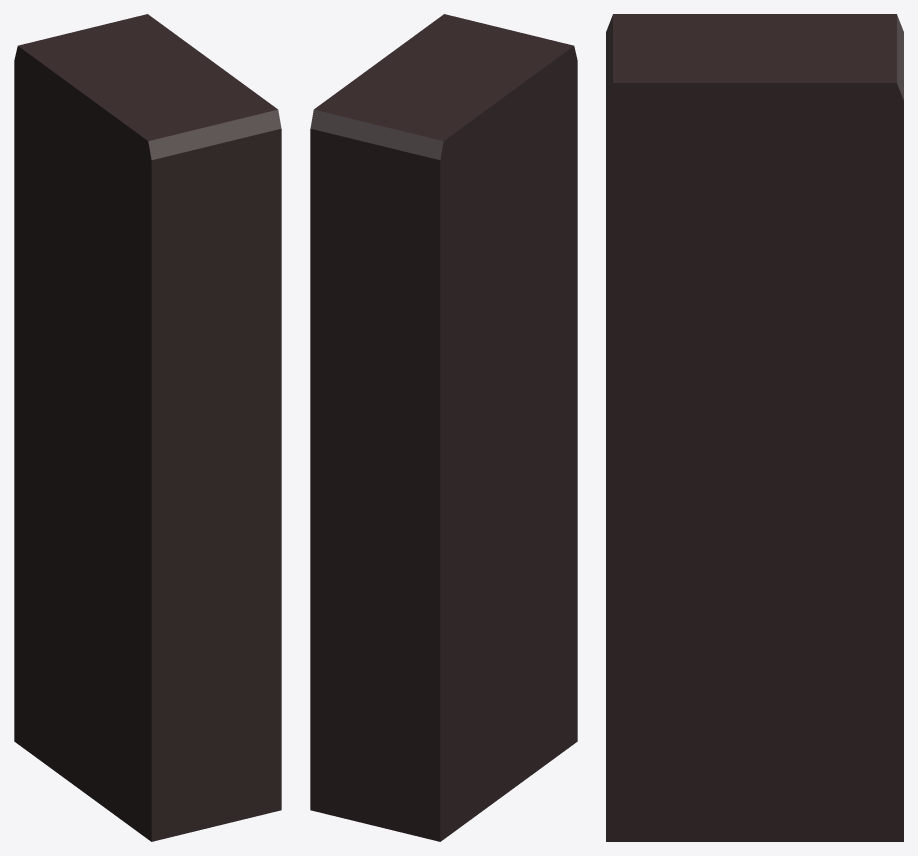
The model's file is Countdown_TimerFantasy_Scaler.glb.
3 views of the same model, side by side, from view 1: azimuth 30°, elevation 25°; view 2: azimuth 150°, elevation 25°; view 3: azimuth 270°, elevation 25° (orthographic). The views are drawn at different scales.
Parts seen in each view (by area): view 1: Scaler; view 2: Scaler; view 3: Scaler.
Part boxes in pixels (x1,y1,x2,y2): Scaler: [14, 14, 281, 841]; Scaler: [310, 14, 577, 841]; Scaler: [606, 14, 903, 841].
Size of the model in its own units: 0.2704 by 1.39 by 0.494.
Materials: 1 (1 with a texture image).
